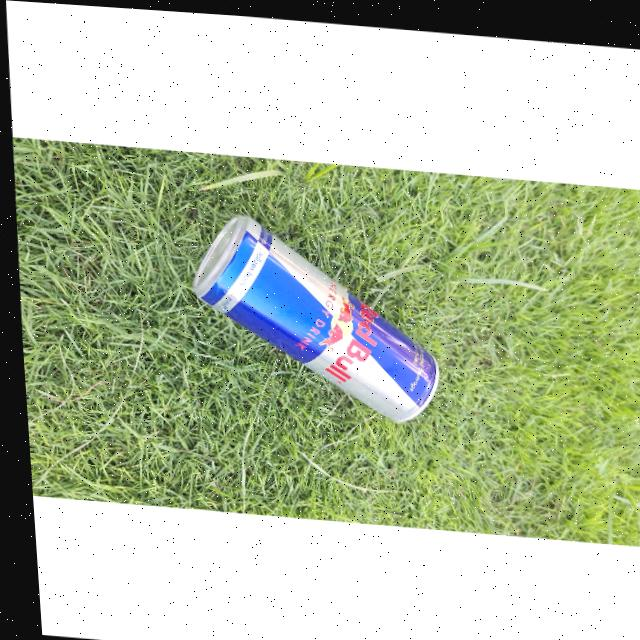Redbull: (187, 211, 438, 427)
